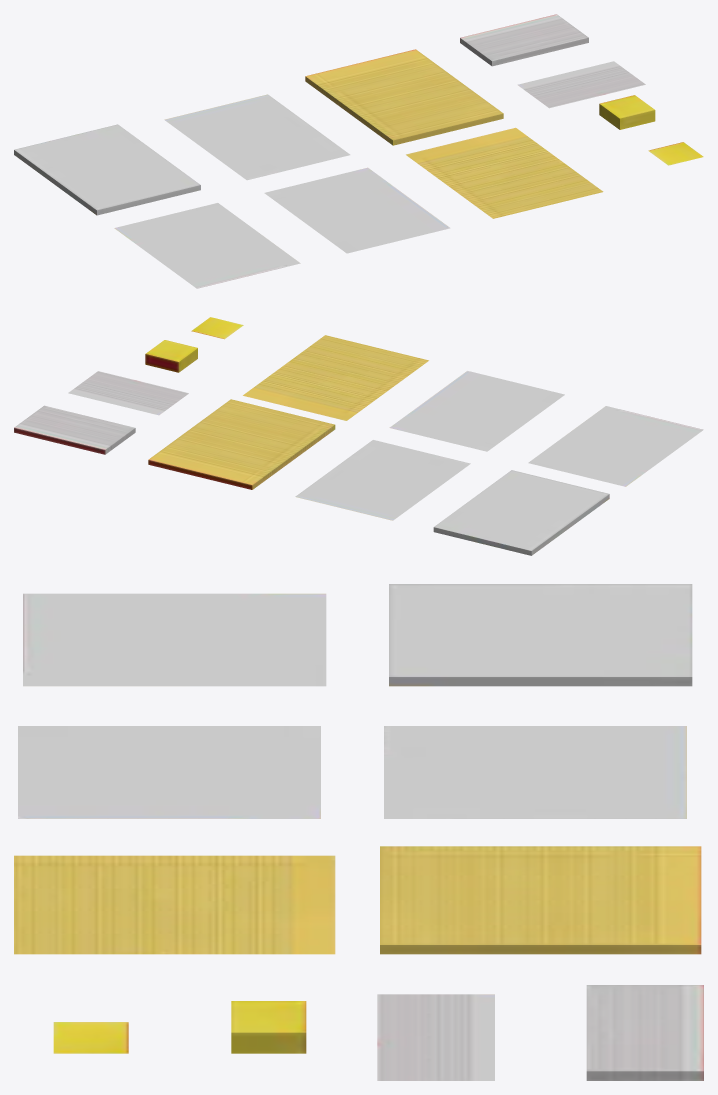
File: notepads.glb
3 views of the same model, one above another, from view 1: azimuth 30°, elevation 25°; view 2: azimuth 150°, elevation 25°; view 3: azimuth 270°, elevation 25° (orthographic). The views are drawn at different scales.
Parts seen in each view (by area): view 1: office_notepads_yellow_pad, office_notepads_yellow_sheet, office_notepads_a4_stack, office_notepads_a4_a, office_notepads_a4_b, office_notepads_a4_c, office_notepads_note_stack, office_notepads_note_sheet, office_notepads_sticky_stack, office_notepads_sticky_sheet; view 2: office_notepads_yellow_pad, office_notepads_yellow_sheet, office_notepads_a4_stack, office_notepads_a4_b, office_notepads_a4_c, office_notepads_a4_a, office_notepads_note_stack, office_notepads_note_sheet, office_notepads_sticky_stack, office_notepads_sticky_sheet; view 3: office_notepads_yellow_pad, office_notepads_yellow_sheet, office_notepads_a4_stack, office_notepads_a4_a, office_notepads_a4_b, office_notepads_a4_c, office_notepads_note_stack, office_notepads_note_sheet, office_notepads_sticky_stack, office_notepads_sticky_sheet.
Boxes of the visible parts, x1,y1,x2,y2 form: office_notepads_yellow_pad: [305, 49, 503, 145]; office_notepads_yellow_sheet: [406, 127, 603, 218]; office_notepads_a4_stack: [14, 124, 200, 215]; office_notepads_a4_a: [114, 203, 300, 288]; office_notepads_a4_b: [164, 94, 350, 180]; office_notepads_a4_c: [264, 167, 450, 253]; office_notepads_note_stack: [460, 14, 588, 66]; office_notepads_note_sheet: [517, 61, 645, 108]; office_notepads_sticky_stack: [599, 95, 655, 129]; office_notepads_sticky_sheet: [648, 142, 703, 165]; office_notepads_yellow_pad: [148, 399, 335, 489]; office_notepads_yellow_sheet: [243, 335, 428, 420]; office_notepads_a4_stack: [433, 470, 609, 555]; office_notepads_a4_b: [295, 440, 470, 520]; office_notepads_a4_c: [389, 371, 564, 451]; office_notepads_a4_a: [528, 406, 703, 486]; office_notepads_note_stack: [14, 405, 135, 454]; office_notepads_note_sheet: [68, 371, 188, 415]; office_notepads_sticky_stack: [145, 340, 197, 372]; office_notepads_sticky_sheet: [191, 317, 243, 339]; office_notepads_yellow_pad: [380, 846, 701, 954]; office_notepads_yellow_sheet: [14, 855, 335, 954]; office_notepads_a4_stack: [389, 584, 692, 686]; office_notepads_a4_a: [23, 593, 326, 686]; office_notepads_a4_b: [384, 726, 686, 818]; office_notepads_a4_c: [18, 726, 320, 818]; office_notepads_note_stack: [586, 985, 703, 1080]; office_notepads_note_sheet: [377, 994, 494, 1080]; office_notepads_sticky_stack: [231, 1001, 306, 1053]; office_notepads_sticky_sheet: [53, 1022, 128, 1053].
Size of the model in its own units: 1.1 by 0.022 by 0.6598.
1 material, 1 textured.
